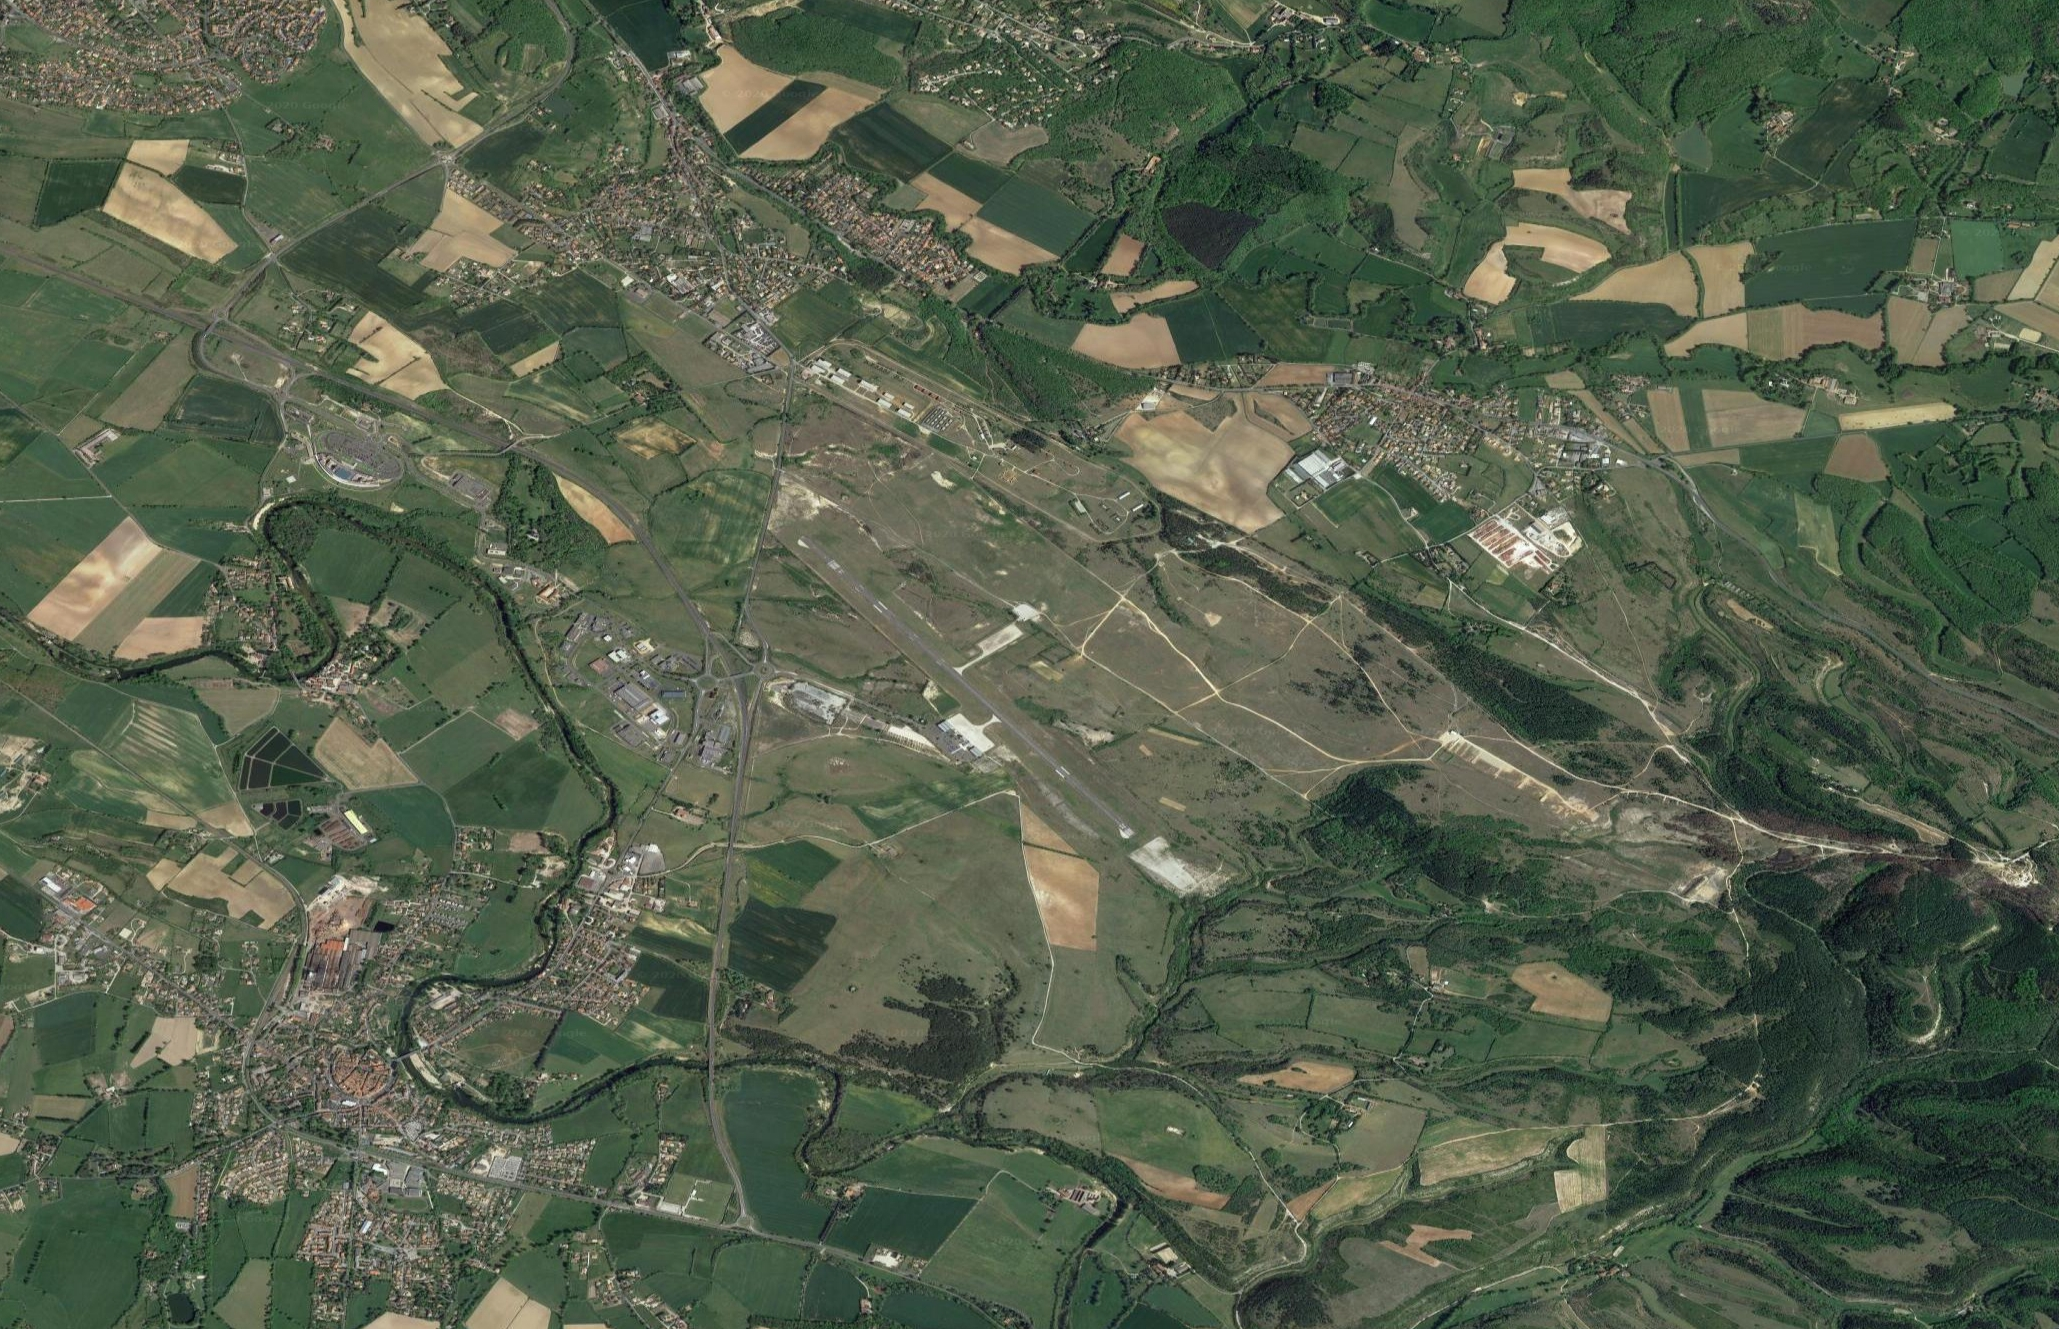airport: (792, 529, 1138, 844)
